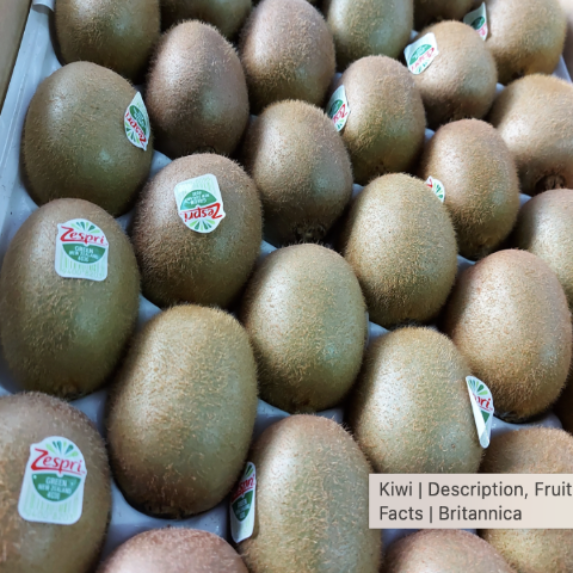kiwi: (91, 280, 271, 522), (344, 309, 498, 504), (7, 188, 150, 392), (215, 398, 381, 572), (441, 237, 573, 445), (336, 159, 464, 336), (134, 8, 256, 179), (143, 146, 262, 313), (409, 110, 521, 262), (320, 51, 437, 185), (249, 85, 358, 221)
